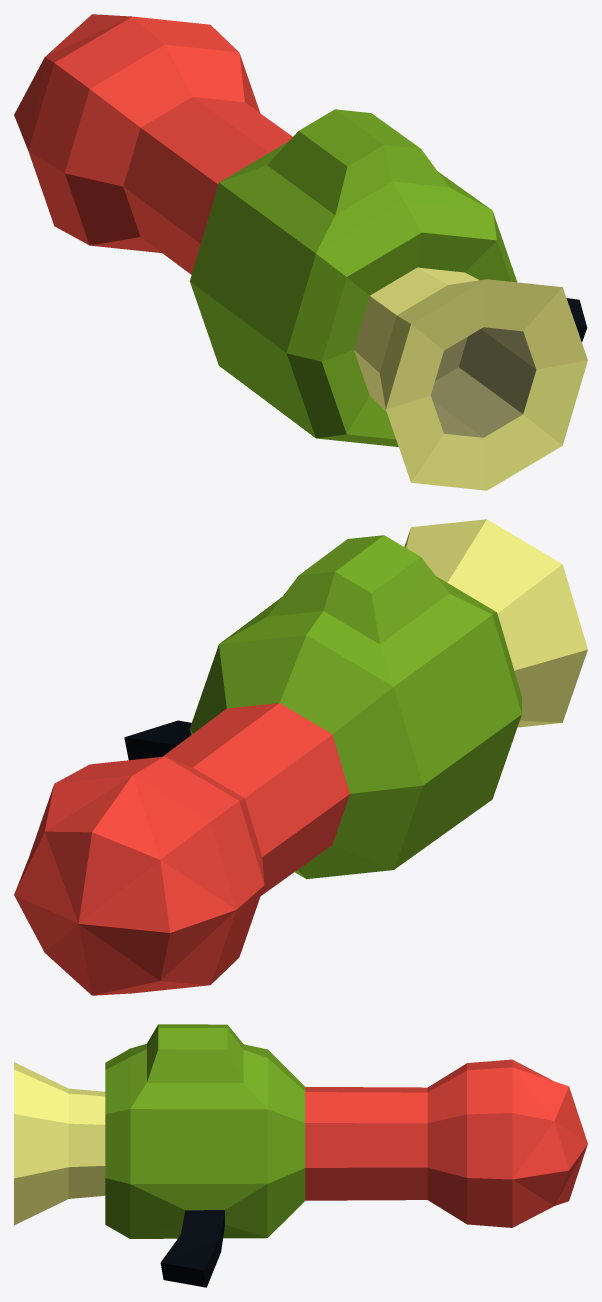
File: gun.obj
3 views of the same model, one above another, from view 1: azimuth 30°, elevation 25°; view 2: azimuth 150°, elevation 25°; view 3: azimuth 270°, elevation 25° (orthographic). The views are drawn at different scales.
Visible parts, largest first — view 1: Gun; view 2: Gun; view 3: Gun.
Boxes of the visible parts, x1,y1,x2,y2 form: Gun: (14,14,587,490); Gun: (14,519,587,995); Gun: (14,1024,587,1287).
Bounding box in the file's own units: 1.5 × 1.2 × 3.08.
